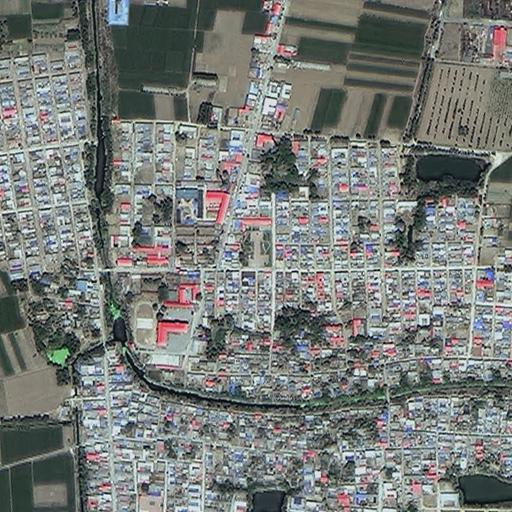school: (126, 298, 197, 368)
